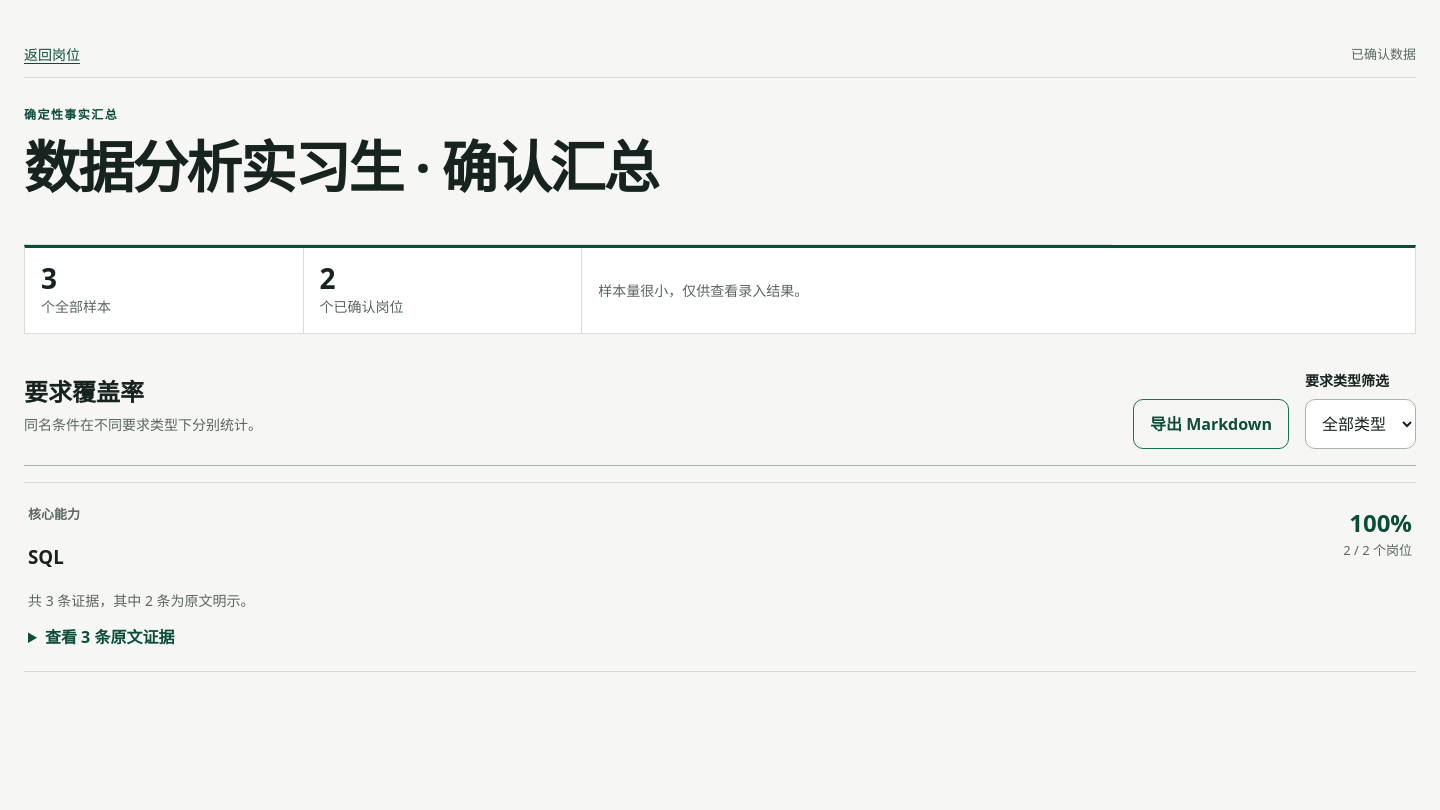
it: SummaryDashboard › refetches by category without changing the confirmed denominator
The image size is (1440, 810).
Expected: the heading "SQL" is shown, [28,544,64,569]
Select "加分条件" in the dropdown labelled "要求类型筛选". click: (1360, 424)
box: [1305,400,1416,450]
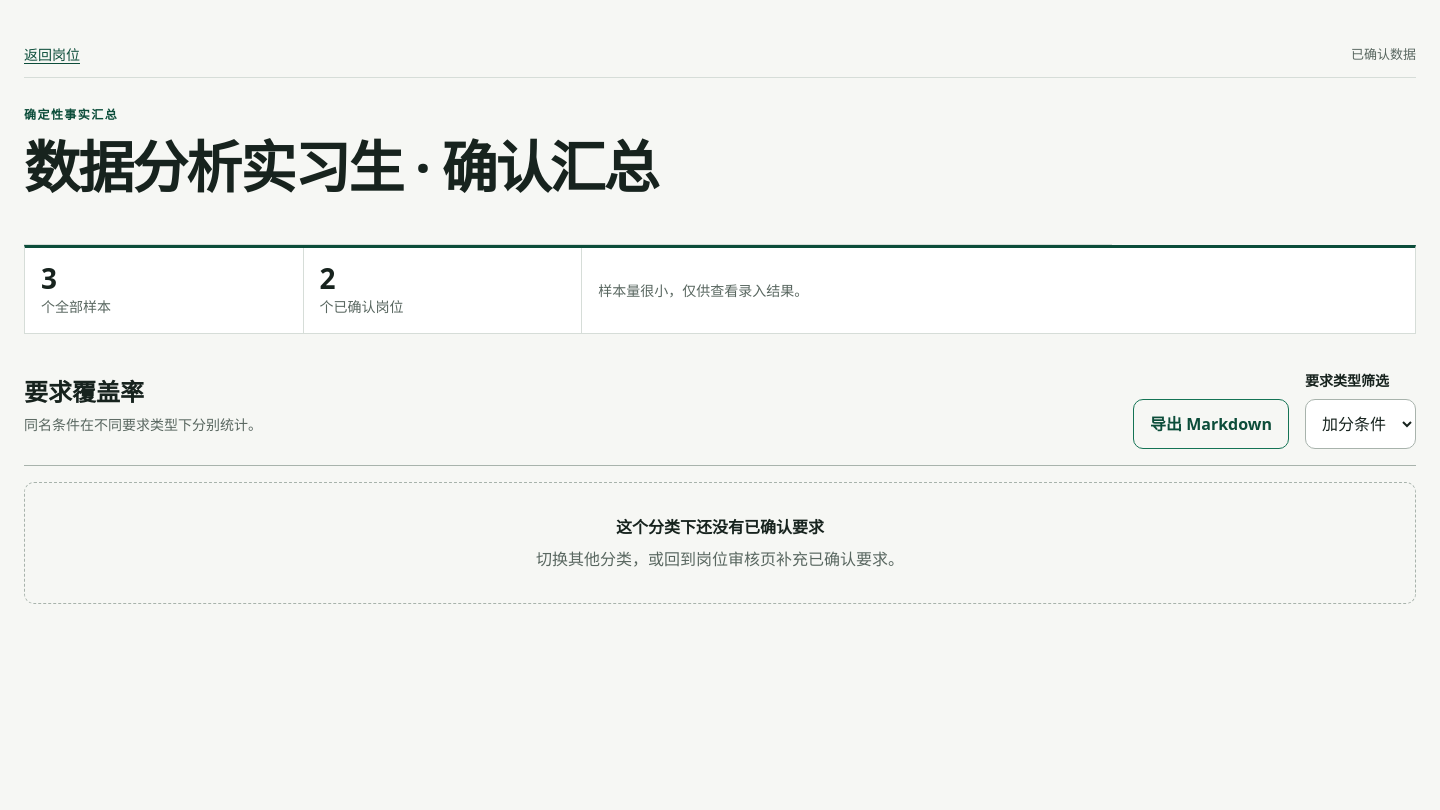
Now the heading "这个分类下还没有已确认要求" is shown, box [616,516,824,538]
